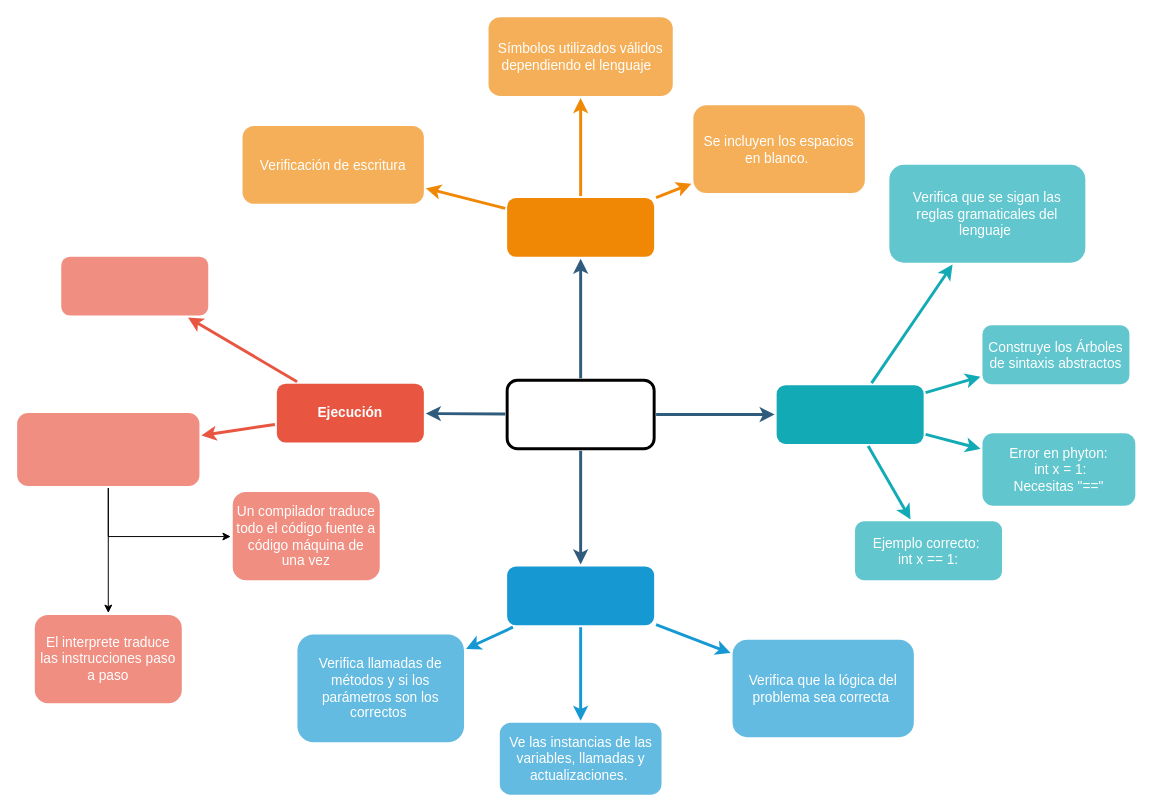
This 1152x811 diagram has some shape labels left out. Each missing label, with the box of its shape:
Análisis léxico: (507, 197, 654, 256)
Análisis semantico: (507, 566, 654, 625)
Análisis sintáctico: (776, 385, 923, 443)
Compilador o Interprete: (17, 413, 199, 486)
Fases de generación código ejecutable.: (505, 378, 655, 450)
Se genera código tipo maquina para que se ejecute: (61, 256, 208, 315)
